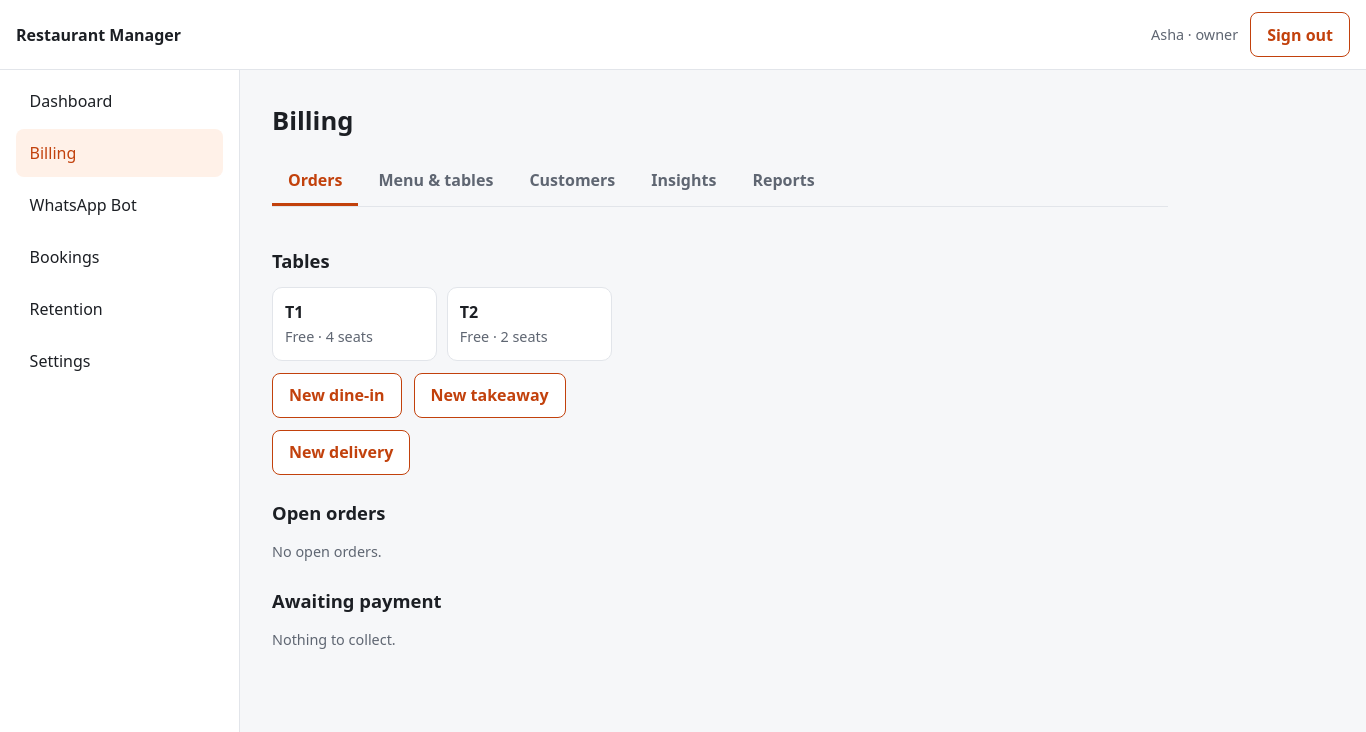
Ordering items with sizes › shows each size's own price
Click the button "T1 Free · 4 seats" at coordinates (355, 324), box [272,287,437,361]
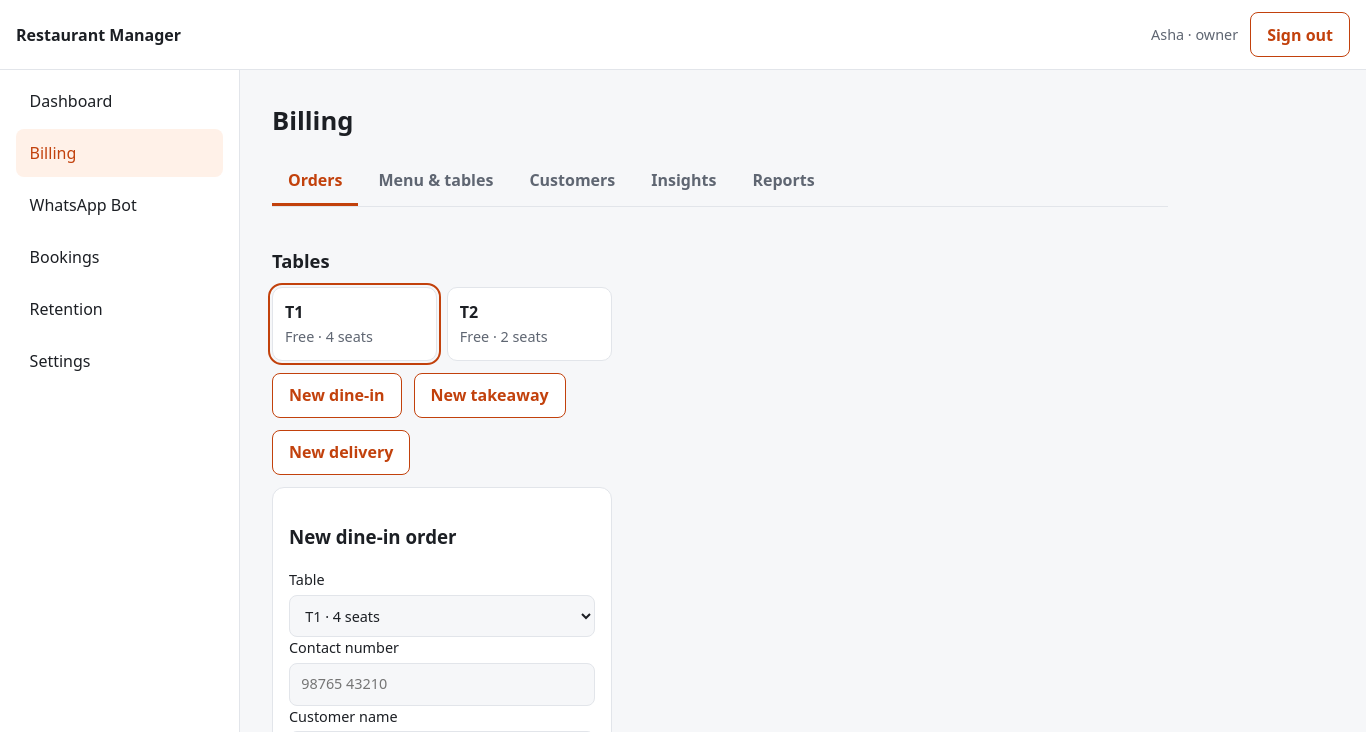
Type "9811111111" into the field labelled "Contact number" at coordinates (442, 684), box [289,663,595,706]
(page scrolled)
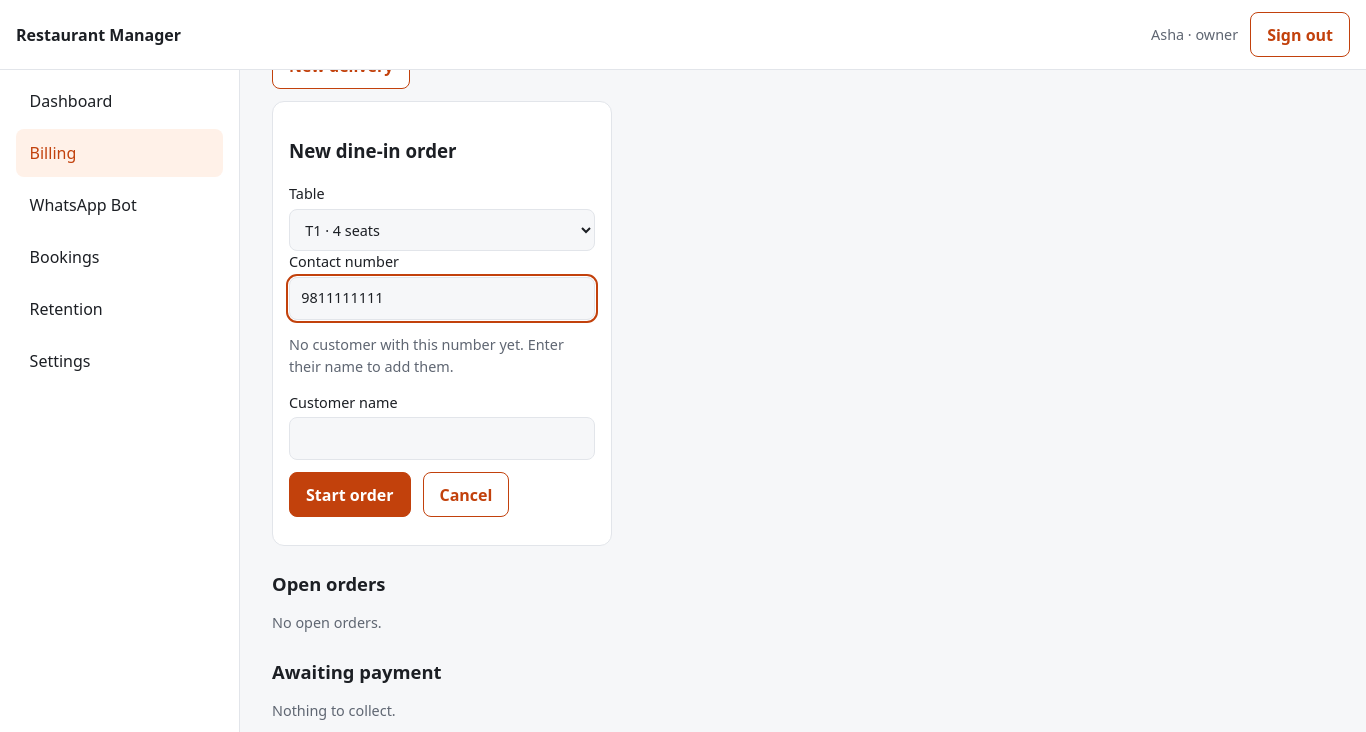
Type "Neha" into the field labelled "Customer name" at coordinates (442, 439), box [289,417,595,460]
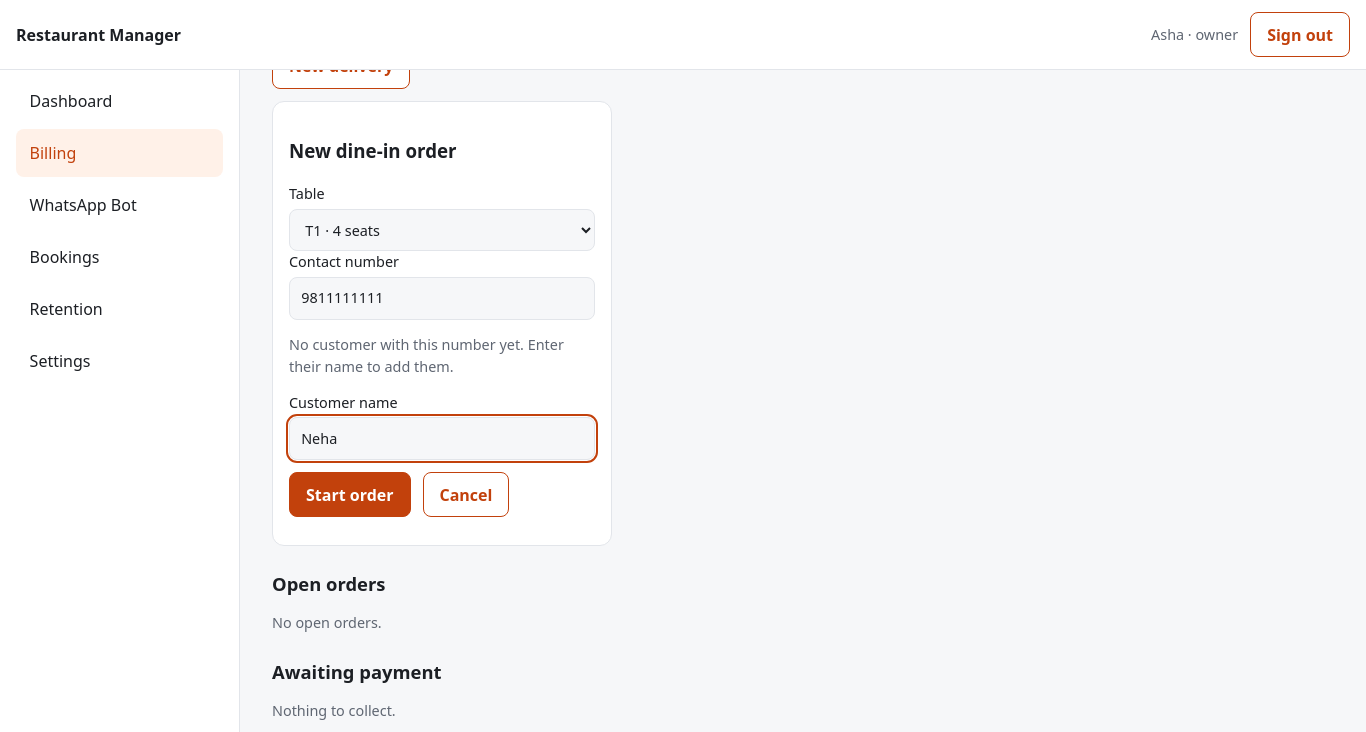
Click the button "Start order" at coordinates (350, 495), box [289,472,410,517]
(page scrolled)
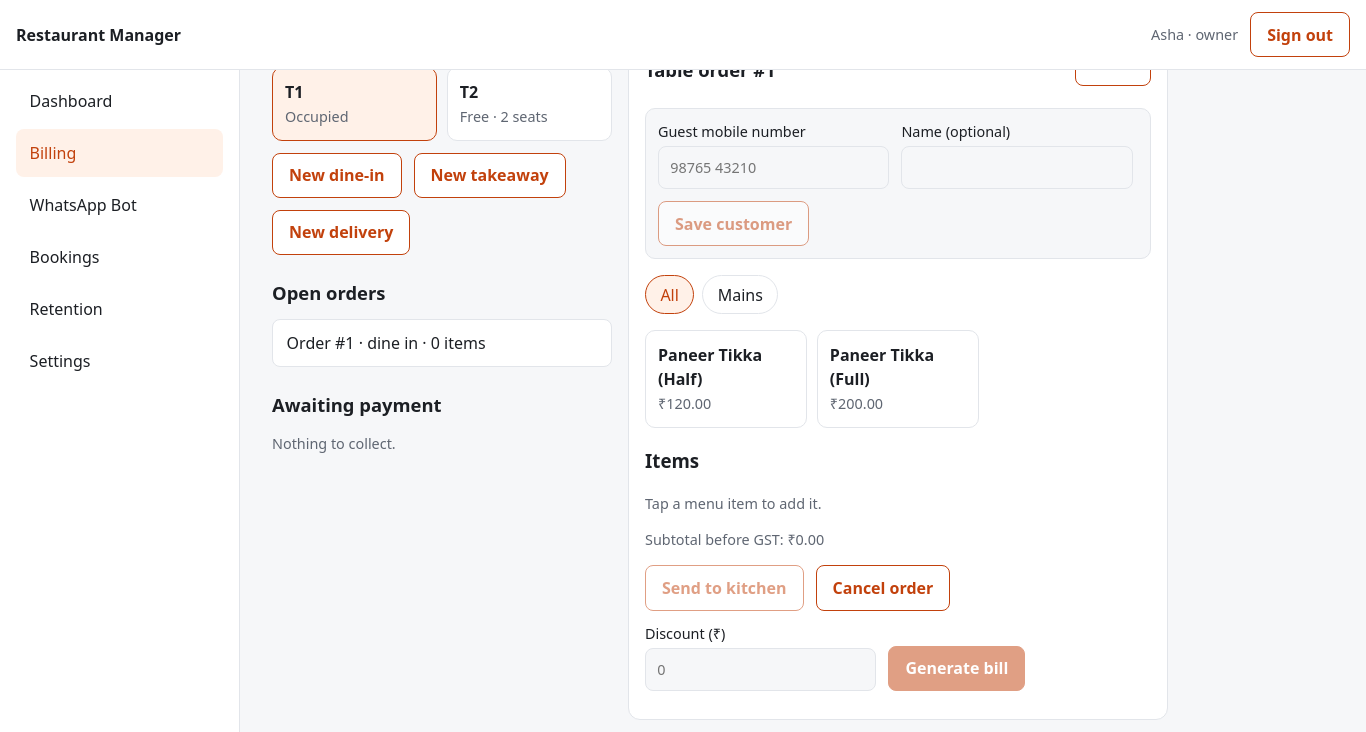
Result: the heading "Table order #1" is shown at [645,56,776,84]
Result: the text "₹120.00" is shown at [658,393,711,415]
Result: the text "₹200.00" is shown at [830,393,883,415]
